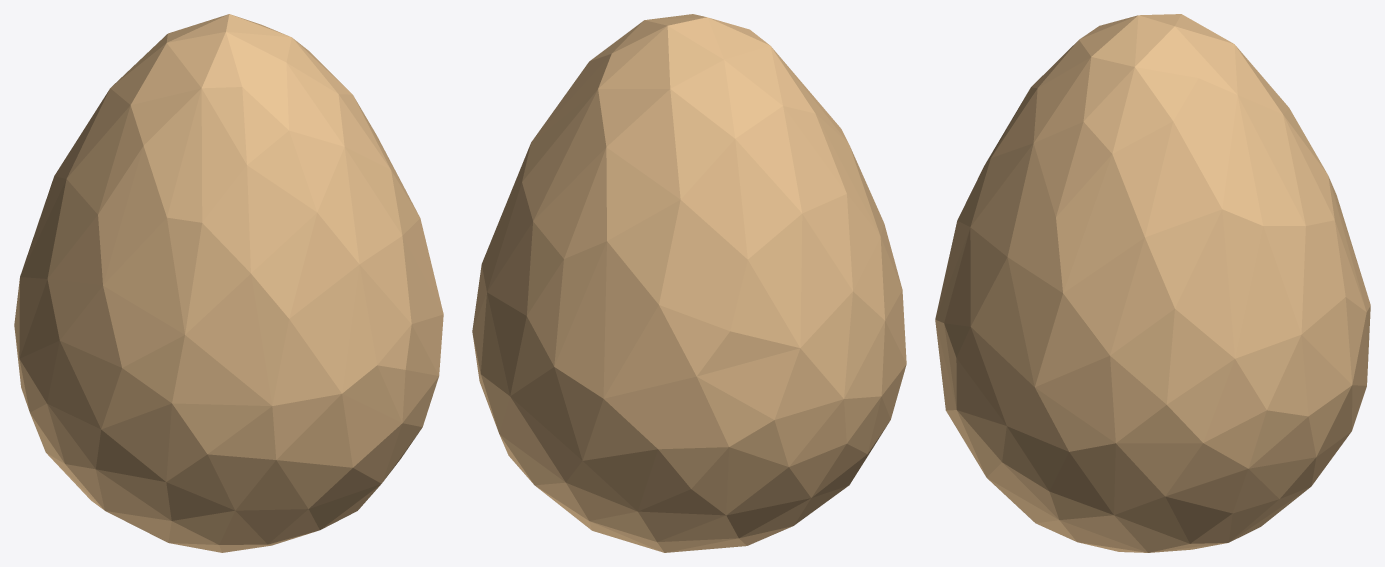
File: egg.glb
3 views of the same model, side by side, from view 1: azimuth 30°, elevation 25°; view 2: azimuth 150°, elevation 25°; view 3: azimuth 270°, elevation 25° (orthographic).
Parts seen in each view (by area): view 1: Icosphere.001; view 2: Icosphere.001; view 3: Icosphere.001.
Part boxes in pixels (x1,y1,x2,y2): Icosphere.001: (14, 14, 443, 552); Icosphere.001: (472, 14, 906, 552); Icosphere.001: (935, 14, 1370, 552).
Size of the model in its own units: 2.11 by 2.76 by 2.11.
